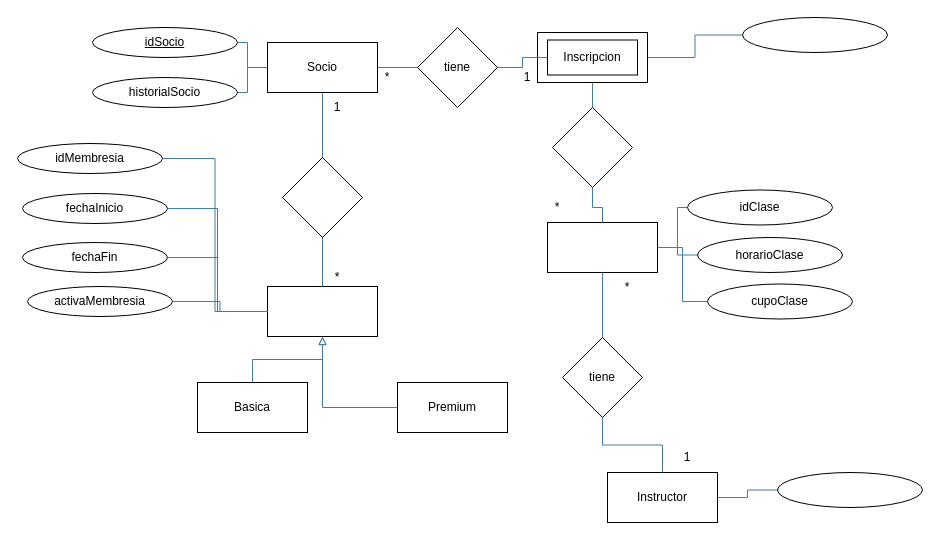
This 940x540 diagram has some shape labels left out. The shapes that lost their labels are listed below. From the top down, each one's box as (x1, y1, x2, y2) in pixels, then its label:
(742, 16, 888, 52): idInscripcion
(552, 106, 632, 188): en
(282, 156, 362, 238): contrata
(546, 222, 658, 272): ClaseGrupal
(266, 286, 378, 336): Membresia
(776, 472, 922, 508): idInstructor
